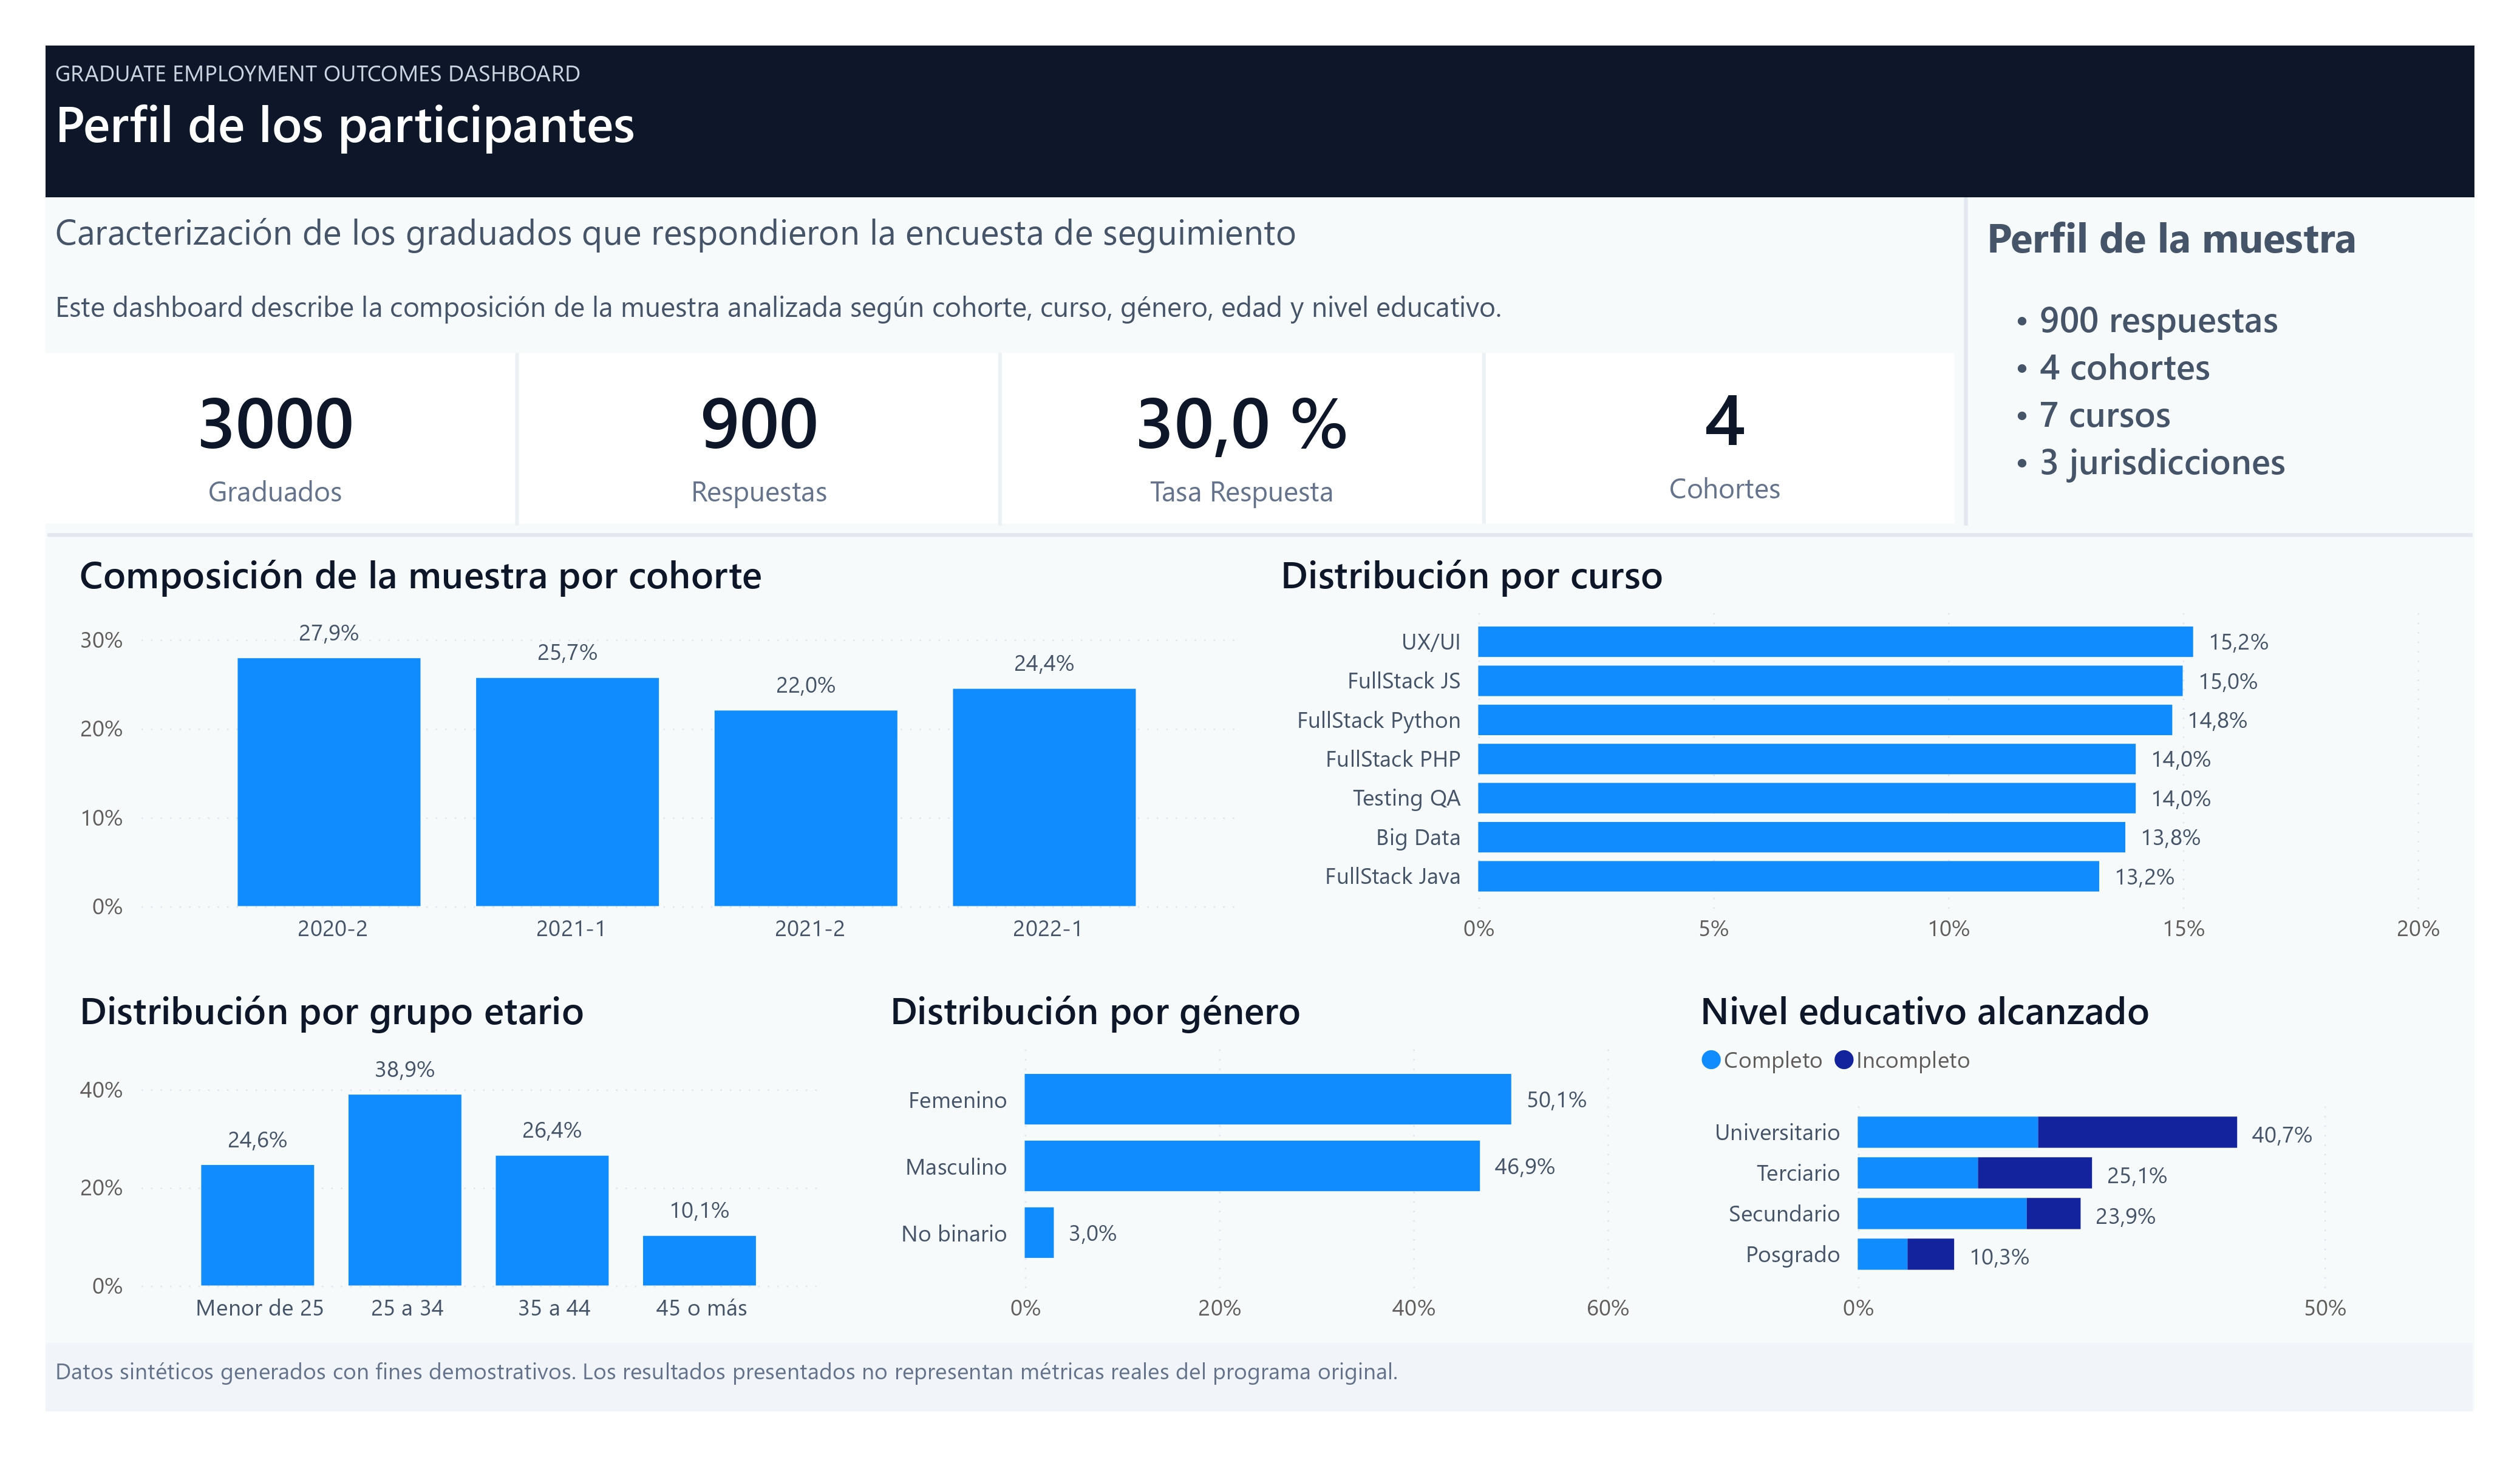

The dashboard page shown, as its layout file describes it:
{"tool":"powerbi","page":{"name":"Página 4","canvas":[1280,720],"ordinal":3},"visuals":[{"type":"textbox","title":"Perfil de la muestra","box":[1017.8,80.8,262.5,177.7],"z":0},{"type":"shape","box":[0,161.6,1005.7,90.6],"z":1000},{"type":"shape","box":[0,0,1280,80],"z":2000},{"type":"card","fields":{"Values":["medidas.Respuestas"]},"box":[254.6,161.7,242,91.7],"z":3000},{"type":"card","fields":{"Values":["medidas.Graduados"]},"box":[0,161.7,242,91.7],"z":4000},{"type":"card","fields":{"Values":["medidas.Tasa Respuesta"]},"box":[509.1,161.7,242.5,91.7],"z":5000},{"type":"card","fields":{"Values":["Count(survey_synthetic.cohort)"]},"box":[763.7,160.5,242.5,91.7],"z":6000},{"type":"textbox","box":[0,0,692.5,63.8],"z":7000},{"type":"textbox","box":[0,80.1,1018.4,80.1],"z":8000},{"type":"shape","box":[242.5,161.7,12.1,91.7],"z":9000},{"type":"shape","box":[751.6,161.7,12.1,90.5],"z":10000},{"type":"shape","box":[497.1,161.7,12.1,91.7],"z":11000},{"type":"shape","box":[1.3,251.7,1277.6,12.1],"z":12000},{"type":"textbox","box":[0,684.1,1278.8,36.2],"z":13000},{"type":"columnChart","title":"Composición de la muestra por cohorte","fields":{"Category":["survey_synthetic.cohort"],"Y":["medidas.Respuestas"]},"box":[13.5,263.9,620.6,220],"z":14000},{"type":"barChart","title":"Distribución por curso","fields":{"Y":["medidas.Respuestas"],"Category":["survey_synthetic.Curso ES"]},"box":[646,264,621,220],"z":15000},{"type":"barChart","title":"Distribución por género","fields":{"Y":["medidas.Respuestas"],"Category":["graduates_synthetic.Genero ES"]},"box":[440.2,494.1,399.8,189.8],"z":16000},{"type":"barChart","title":"Nivel educativo alcanzado","fields":{"Y":["medidas.Respuestas"],"Series":["survey_synthetic.Estado Nivel"],"Category":["survey_synthetic.Nivel Educativo"]},"box":[867,494.1,399.8,189.8],"z":17000},{"type":"columnChart","title":"Distribución por grupo etario","fields":{"Y":["medidas.Respuestas"],"Category":["survey_synthetic.Grupo Etario ES"]},"box":[13.5,494.1,400,189.8],"z":18000},{"type":"shape","box":[1005.9,80.2,12.4,172.7],"z":19000}]}

Visuals, with their boxes on the page's 1280x720 design canvas (x1, y1, x2, y2). These are canvas units, not pixel positions in the 2520x1457 screenshot, which may show the page scaled, cropped or inside an application window:
"Perfil de la muestra" textbox: [x1=1018, y1=81, x2=1280, y2=258]
shape: [x1=0, y1=162, x2=1006, y2=252]
shape: [x1=0, y1=0, x2=1280, y2=80]
card - medidas.Respuestas: [x1=255, y1=162, x2=497, y2=253]
card - medidas.Graduados: [x1=0, y1=162, x2=242, y2=253]
card - medidas.Tasa Respuesta: [x1=509, y1=162, x2=752, y2=253]
card - Count(survey_synthetic.cohort): [x1=764, y1=160, x2=1006, y2=252]
textbox: [x1=0, y1=0, x2=692, y2=64]
textbox: [x1=0, y1=80, x2=1018, y2=160]
shape: [x1=242, y1=162, x2=255, y2=253]
shape: [x1=752, y1=162, x2=764, y2=252]
shape: [x1=497, y1=162, x2=509, y2=253]
shape: [x1=1, y1=252, x2=1279, y2=264]
textbox: [x1=0, y1=684, x2=1279, y2=720]
"Composición de la muestra por cohorte" columnChart: [x1=14, y1=264, x2=634, y2=484]
"Distribución por curso" barChart: [x1=646, y1=264, x2=1267, y2=484]
"Distribución por género" barChart: [x1=440, y1=494, x2=840, y2=684]
"Nivel educativo alcanzado" barChart: [x1=867, y1=494, x2=1267, y2=684]
"Distribución por grupo etario" columnChart: [x1=14, y1=494, x2=414, y2=684]
shape: [x1=1006, y1=80, x2=1018, y2=253]
